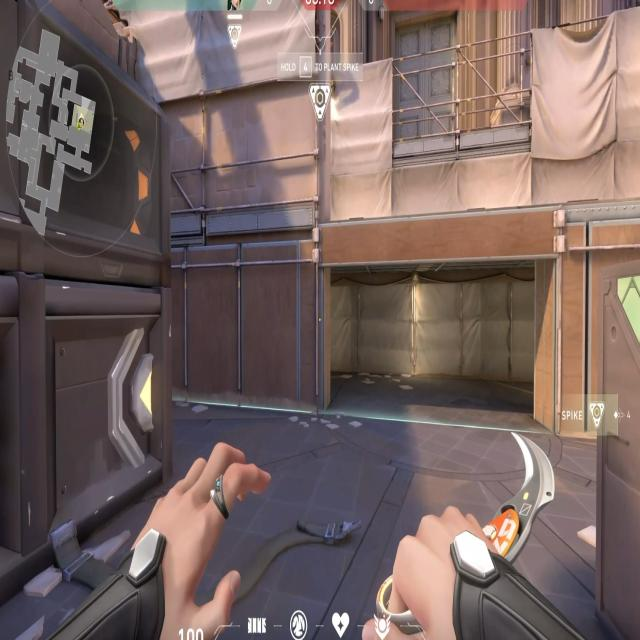A_Heaven_Wall: (126, 0, 327, 215)
A_Hell: (291, 218, 596, 440)
